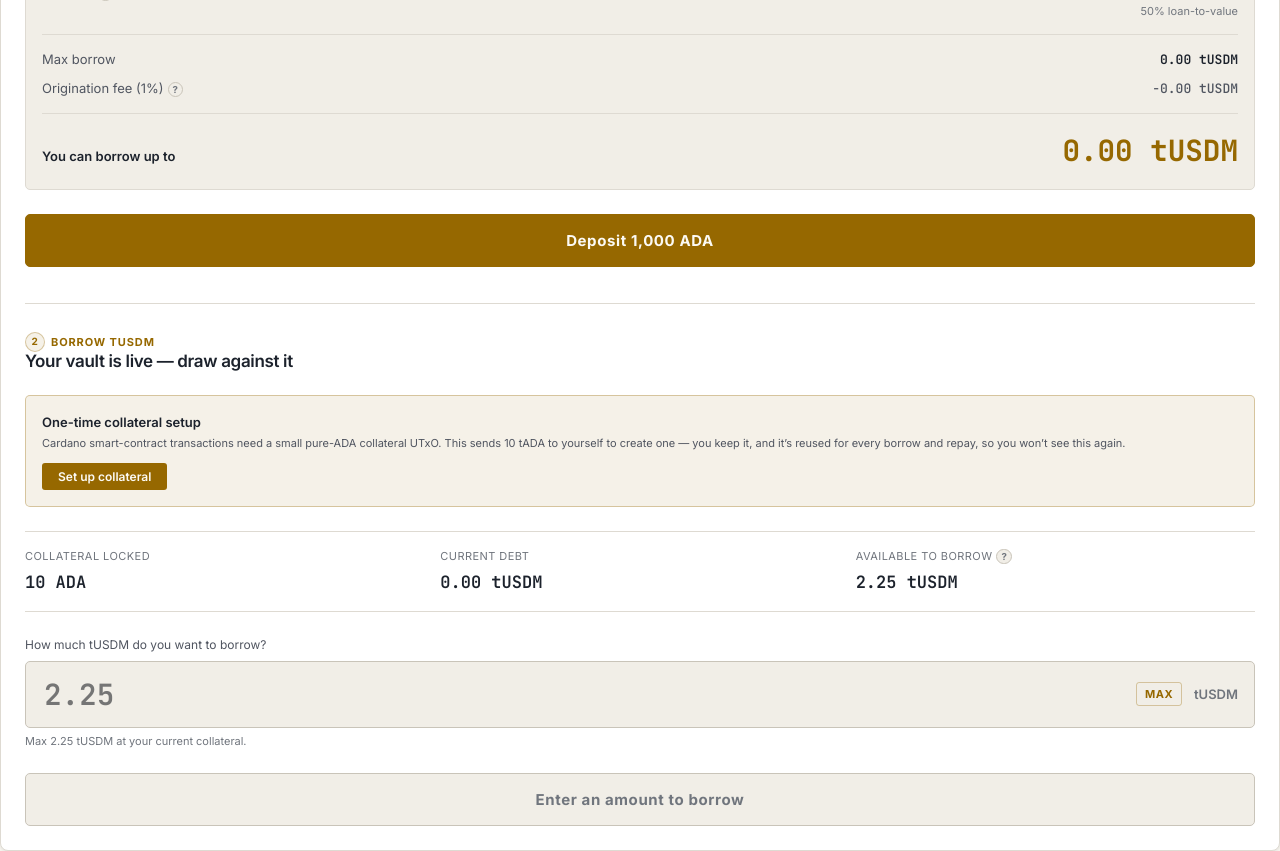
BorrowPanel borrow validation › fills the drawable max when MAX is clicked
(page scrolled)
Click the button "Max". click: (1159, 694)
box: [1136,682,1182,706]
(page scrolled)
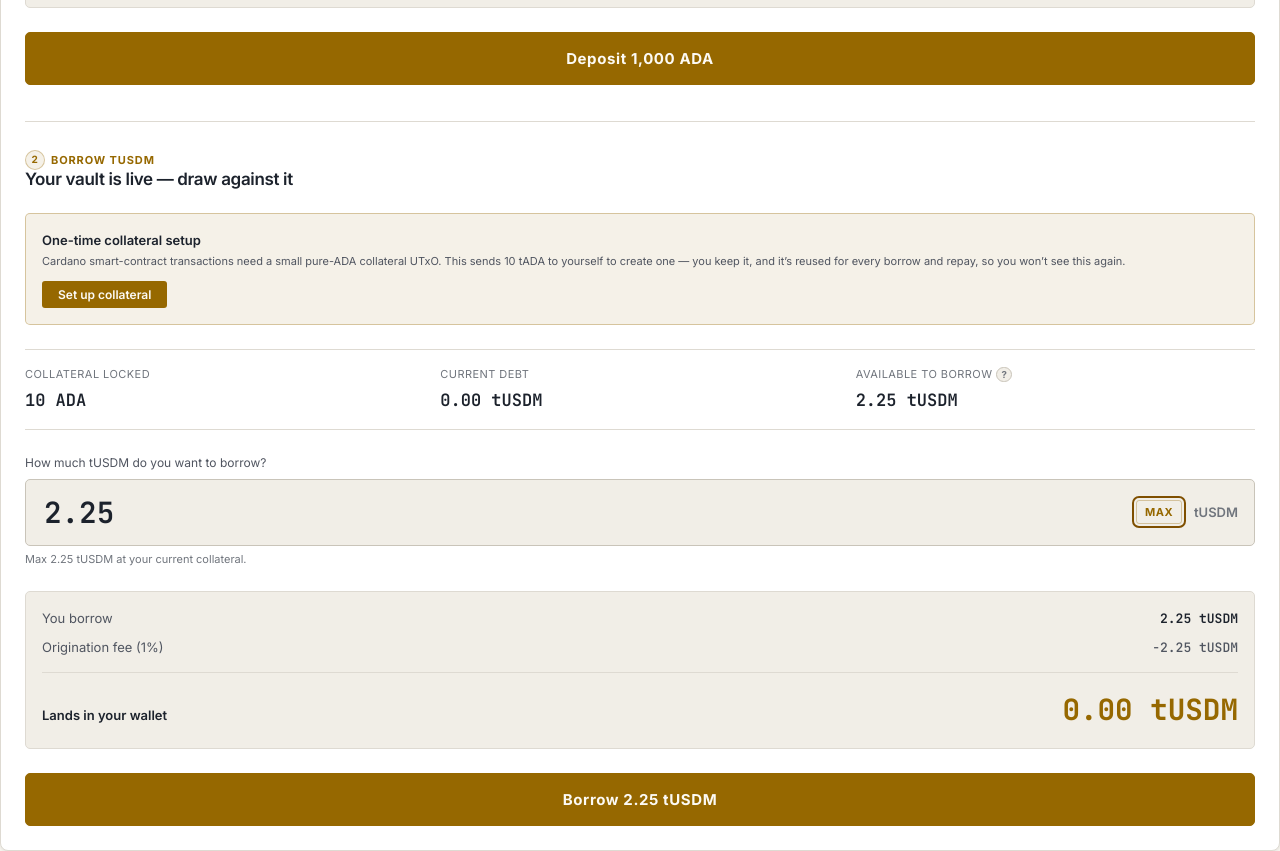
expect the field labelled "How much tUSDM do you want to borrow?" holds "2.25": met, box [42,492,1124,533]
expect the button "Borrow 2.25 tUSDM" is enabled: met, box [25,773,1255,826]
